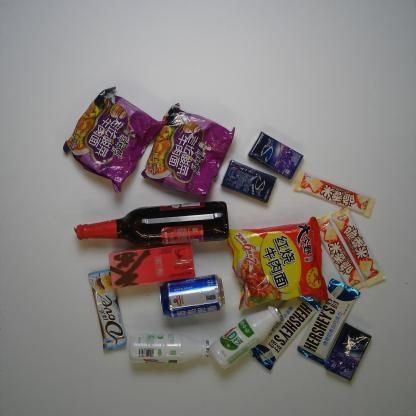Alcohol: (73, 199, 230, 248), (157, 272, 227, 318)
Chocolate: (297, 278, 362, 366), (251, 295, 322, 372), (331, 206, 386, 288), (292, 170, 376, 218), (317, 214, 367, 291), (88, 268, 128, 351)
Gum: (323, 322, 373, 382), (247, 131, 304, 180), (219, 158, 277, 204)
Instant Drink: (107, 241, 196, 290)
Instant Noodles: (62, 85, 171, 193), (140, 101, 237, 204), (226, 215, 329, 311)
Milk: (208, 302, 284, 370), (128, 332, 210, 364)
